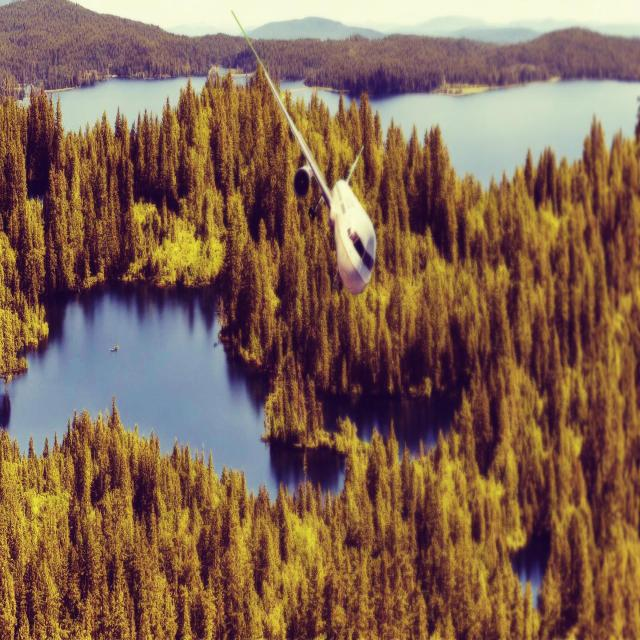airplane: (230, 10, 377, 295)
